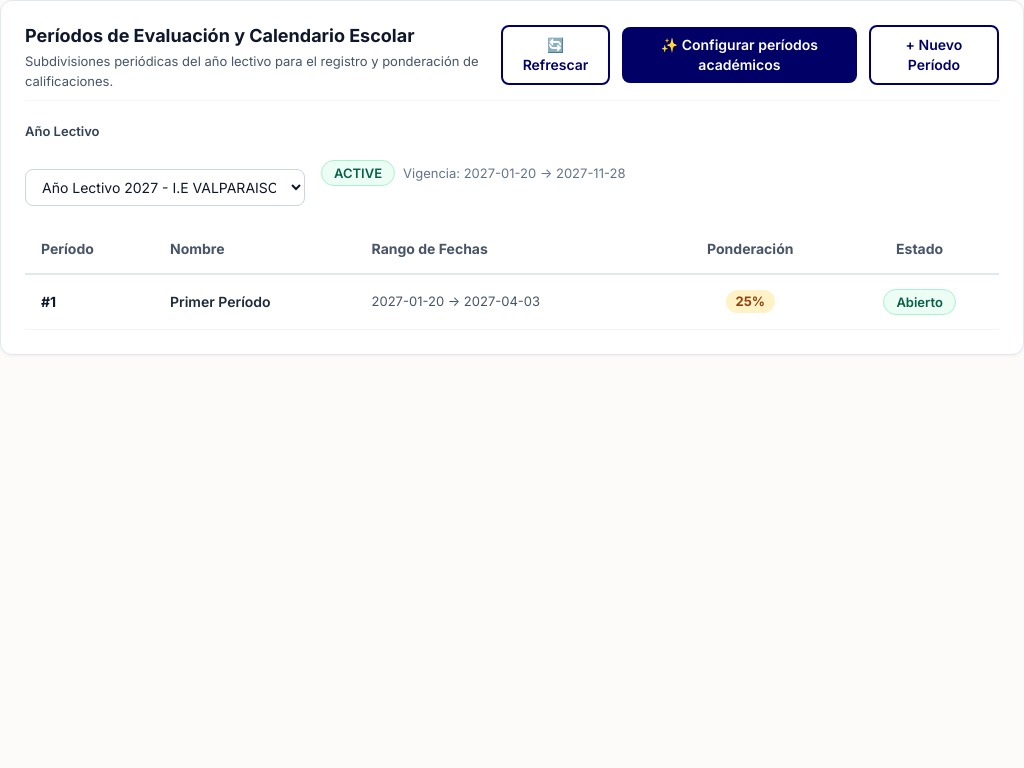
NTA-10-R7: Academic Period Templates & SIEE Configuration Wizard › opens PeriodTemplateWizardModal when clicking "✨ Configurar períodos académicos"
The width and height of the screenshot is (1024, 768).
Expected: the heading "Períodos de Evaluación y Calendario Escolar" is shown, [25,25,414,46]
Click the button "✨ Configurar períodos académicos". click: [739, 55]
box: [622,27,857,83]
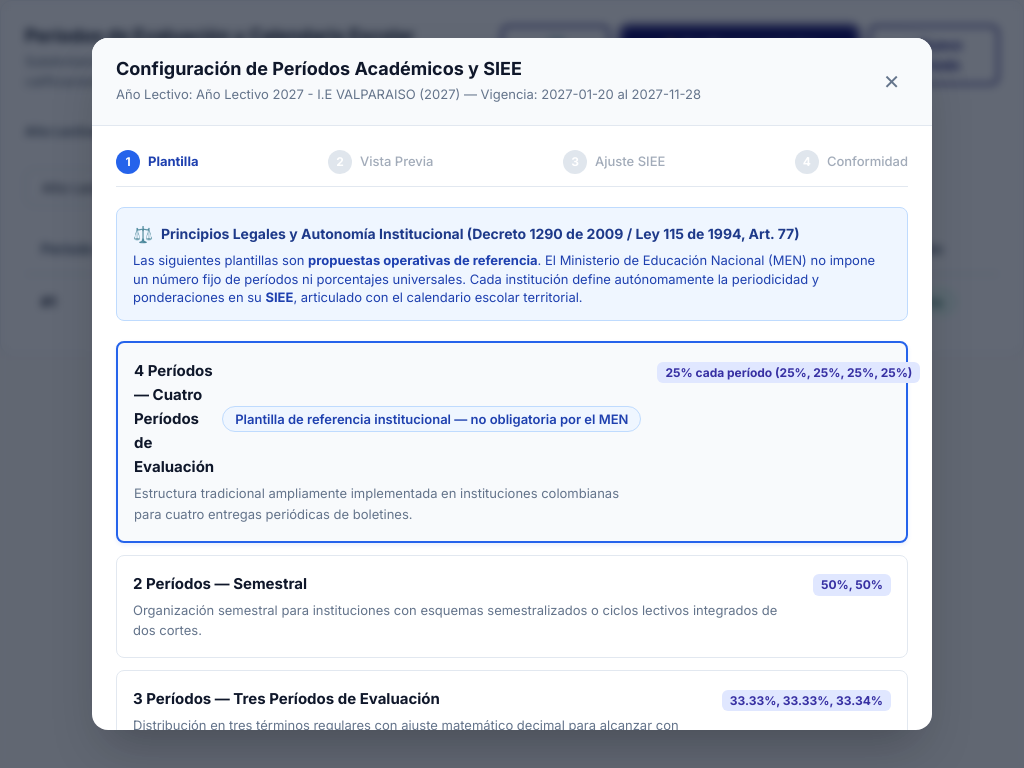
Now the heading "Configuración de Períodos Académicos y SIEE" is shown, box [116,58,522,79]
Now the text "Principios Legales y Autonomía Institucional" is shown, box [161,225,800,242]
